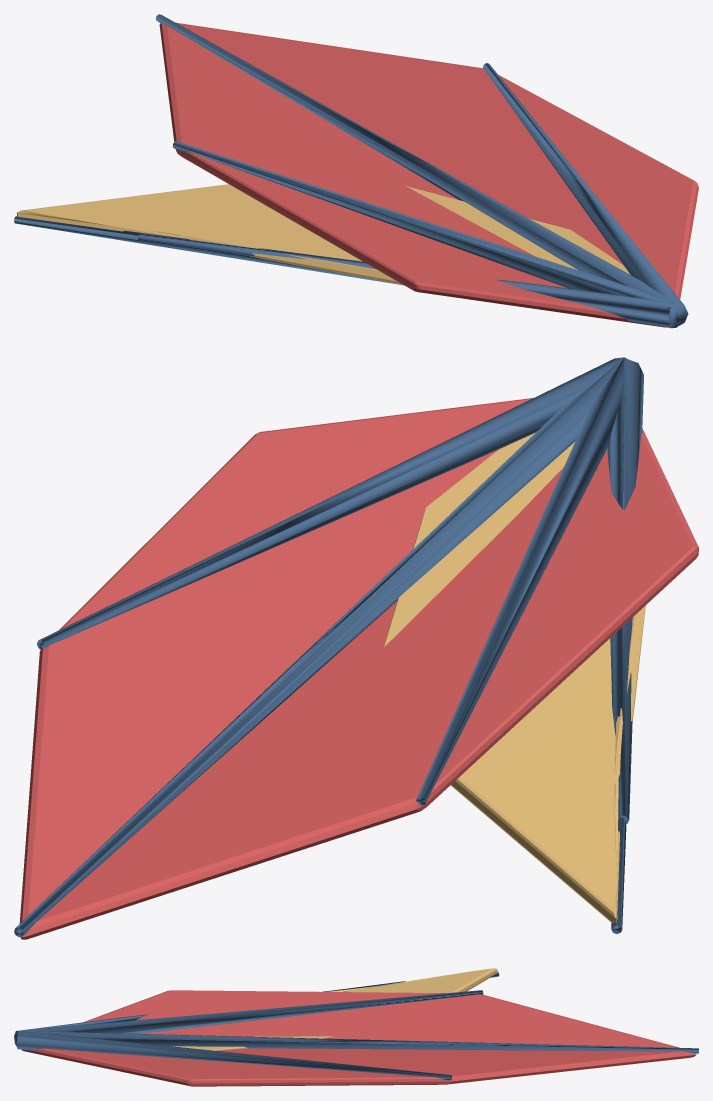
File: wing_insect.glb
3 renders of one model, top to bottom at view 1: azimuth 30°, elevation 25°; view 2: azimuth 150°, elevation 25°; view 3: azimuth 270°, elevation 25°, orthographic. The views are drawn at different scales.
Parts seen in each view (by area): view 1: wing_insect; view 2: wing_insect; view 3: wing_insect.
Boxes of the visible parts, x1,y1,x2,y2 form: wing_insect: (14,14,698,328); wing_insect: (14,357,698,939); wing_insect: (14,968,698,1086).
Bounding box in the file's own units: 1.27 × 0.2175 × 2.22.
